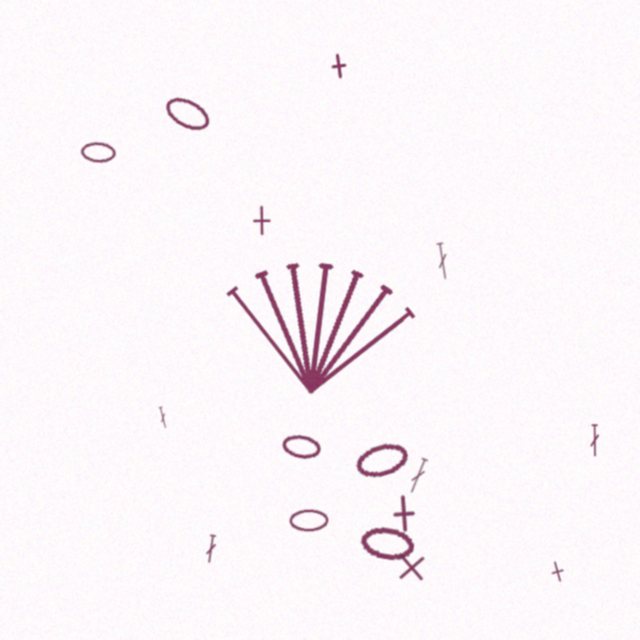chain: (352, 438, 411, 482), (160, 91, 214, 137), (358, 523, 416, 563), (280, 432, 323, 462), (289, 509, 329, 532), (80, 141, 116, 164)
double: (406, 457, 430, 495), (434, 242, 451, 280), (204, 534, 218, 564), (589, 424, 600, 457), (157, 406, 169, 429)
fan: (211, 233, 428, 407)
single: (383, 493, 424, 534), (394, 550, 429, 585), (246, 205, 277, 236), (324, 51, 354, 81), (544, 558, 571, 585)
